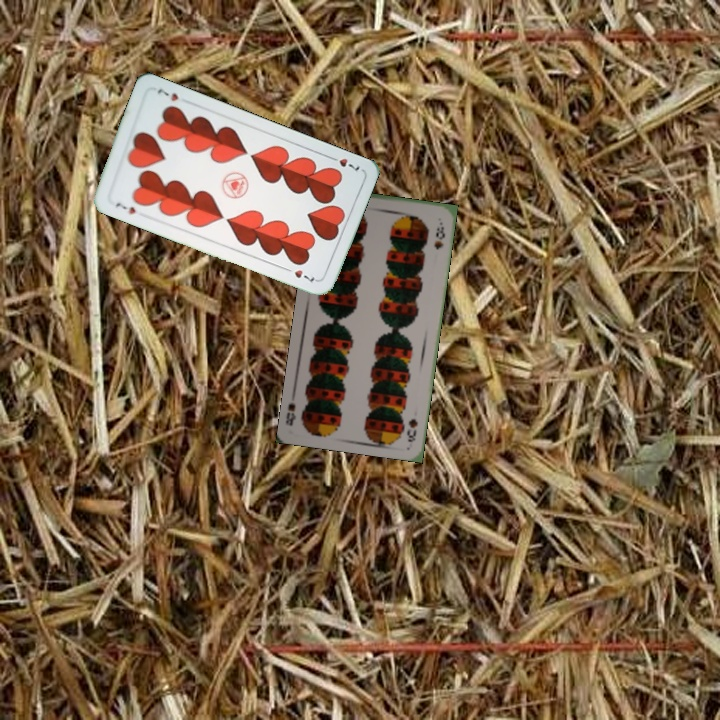H7: (324, 152, 363, 173), (112, 198, 138, 217)
S8: (403, 415, 420, 445)
